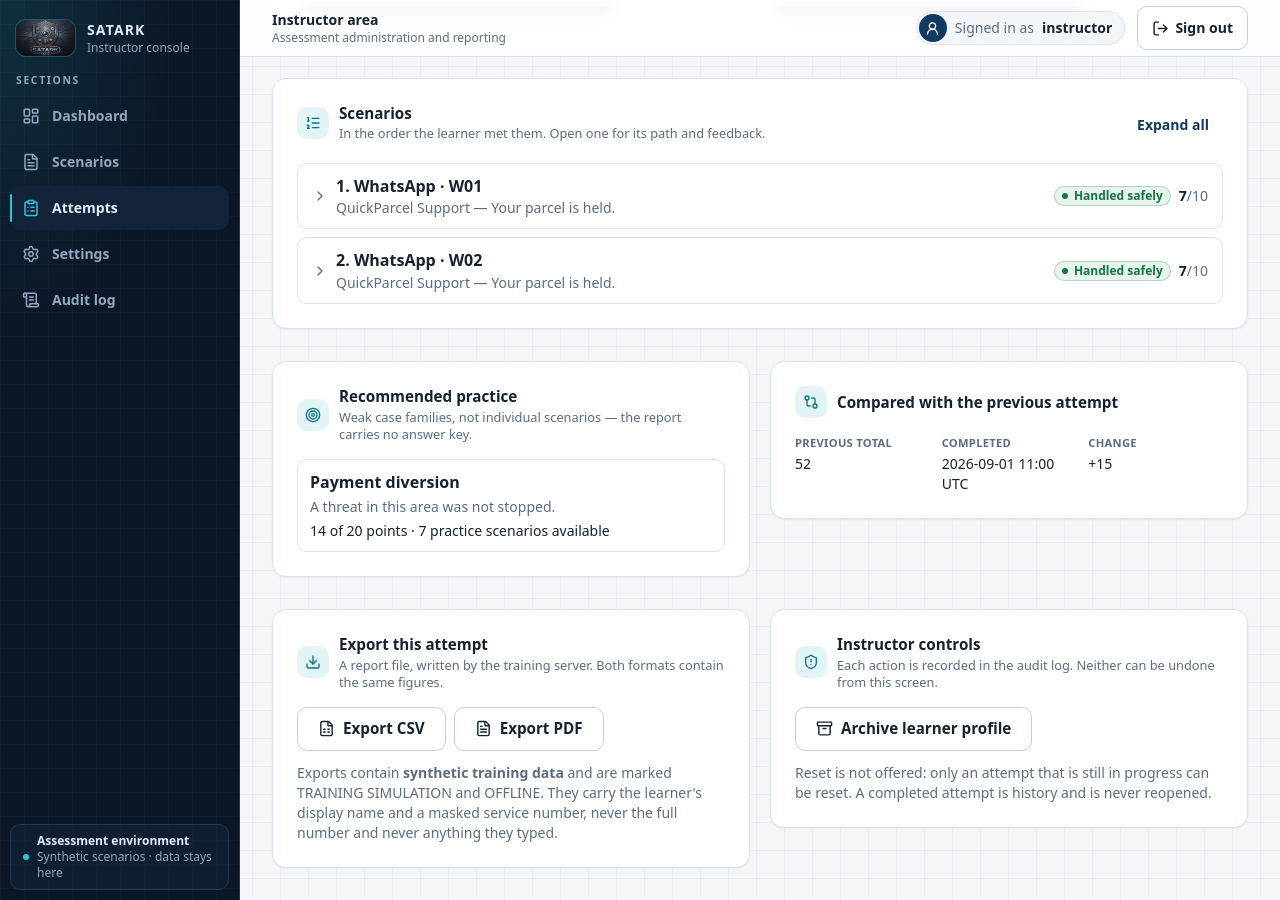
it: export › requests a CSV and reports where the server put it
(page scrolled)
Click the button "Export CSV".
click(371, 729)  # box left=297, top=707, right=446, bottom=751
(page scrolled)
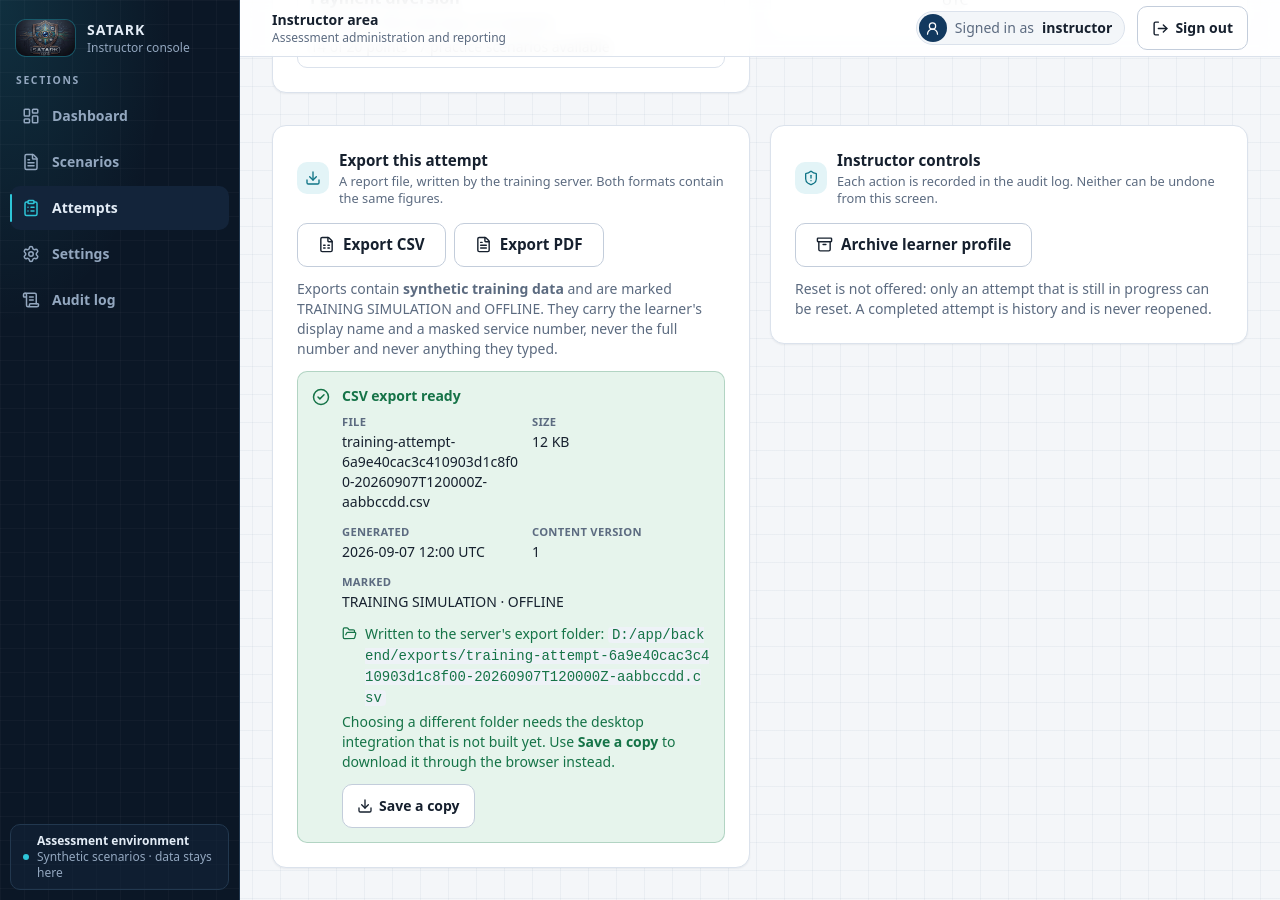
Now the text "CSV export ready" is shown, box left=342, top=386, right=461, bottom=405
Now the text "TRAINING SIMULATION · OFFLINE" is shown, box left=342, top=592, right=564, bottom=611
Now the text "Written to the server's export folder" is shown, box left=365, top=624, right=604, bottom=643
